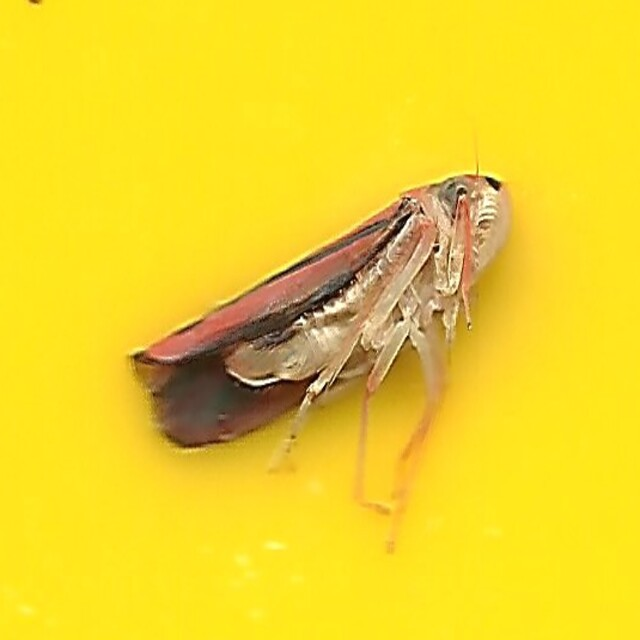Hemiptera: (120, 165, 520, 475)
